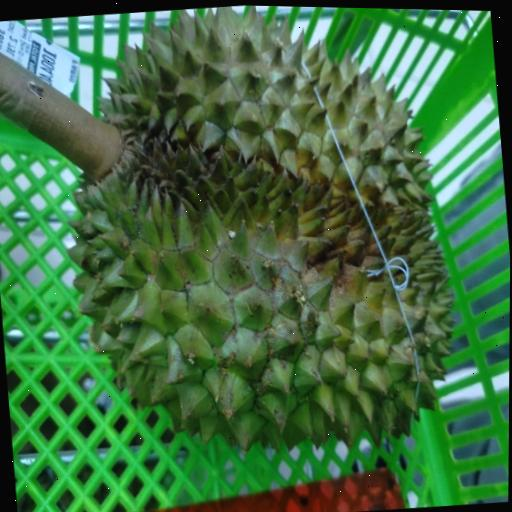rot: (0, 0, 512, 509)
